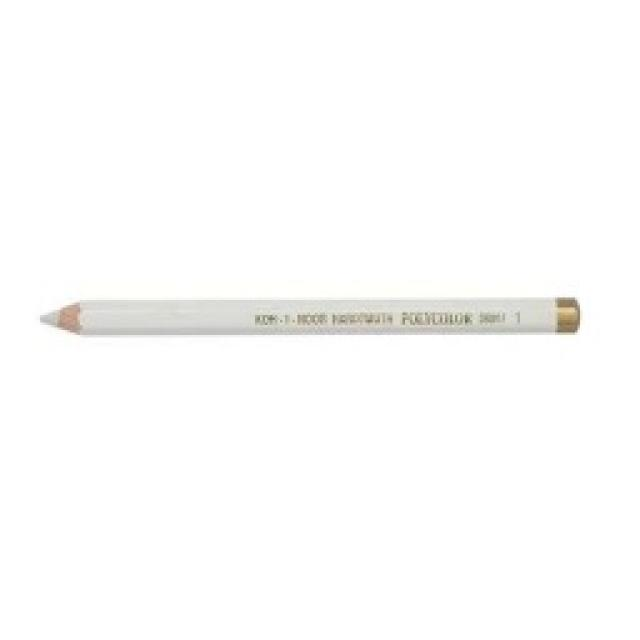pencil: (38, 292, 582, 340)
